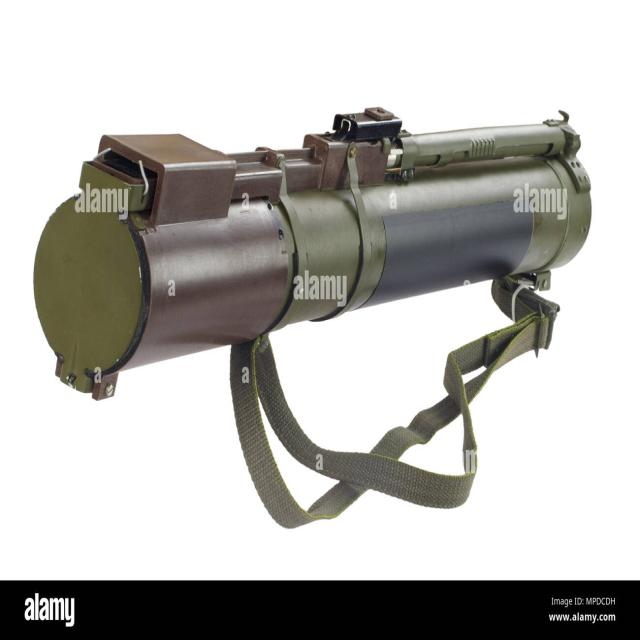bazooka: (26, 114, 593, 418)
